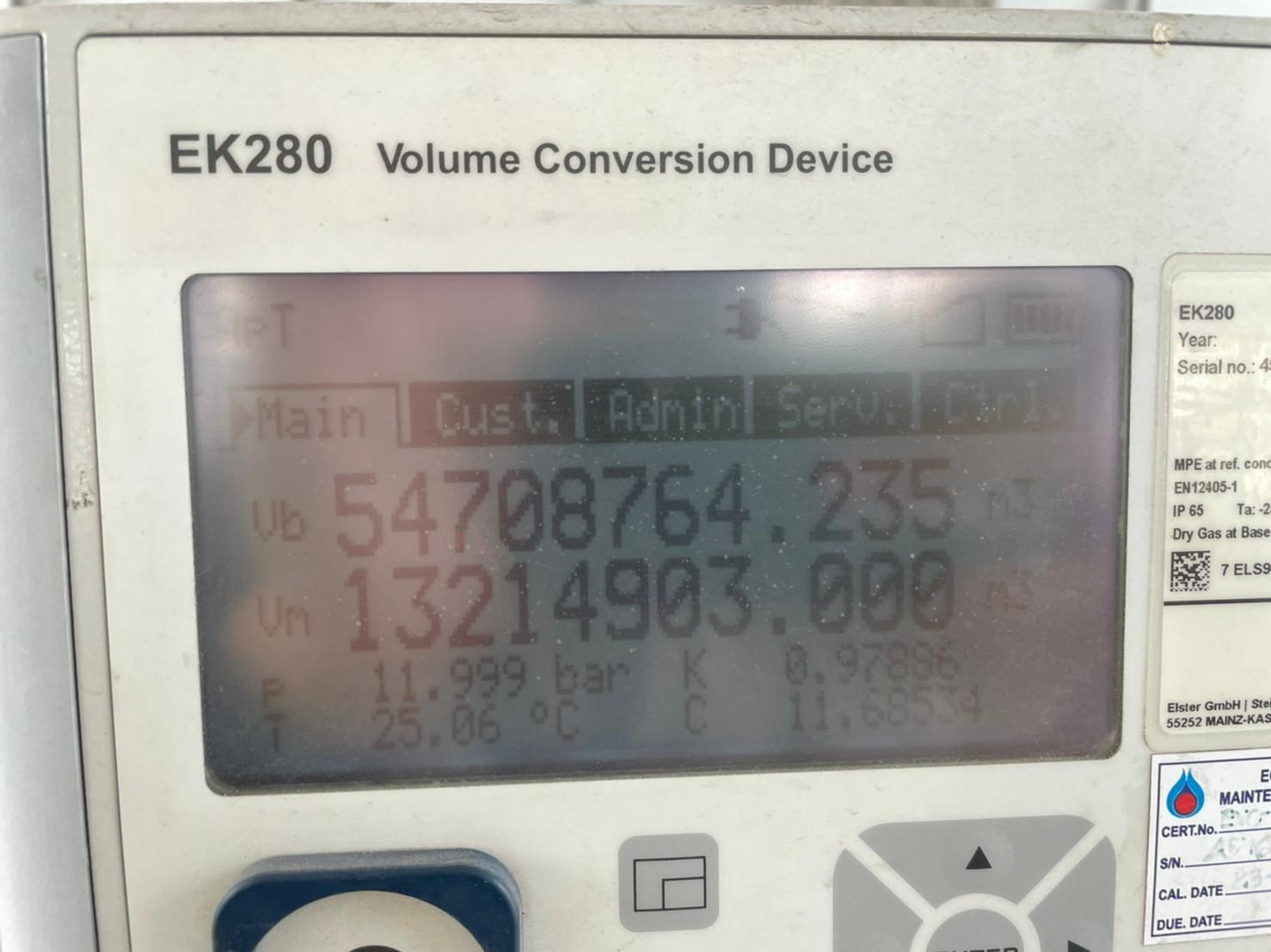digital_screen: (183, 270, 1133, 792)
